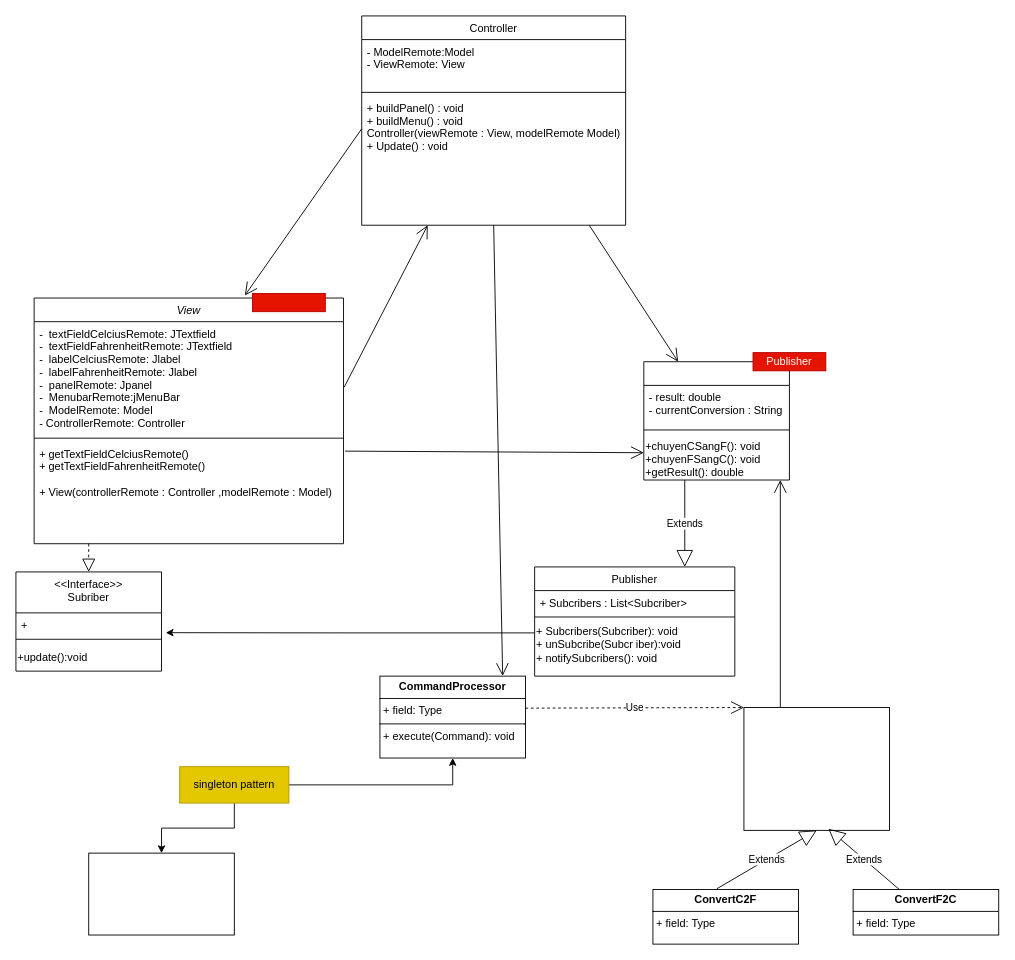
Image size: 1015x960. Some labels were removed from this diagram. The box of each missing label's shape, as (x1, y1, x2, y2) in pixels:
A - aRemote: A static - A() + makeA(): A: (88, 852, 234, 935)
Abstract Class Command - modelRemote: Model - num1:double + execute(): void: (743, 707, 890, 830)
Model: (643, 361, 789, 480)
Subcriber: (252, 293, 325, 312)
